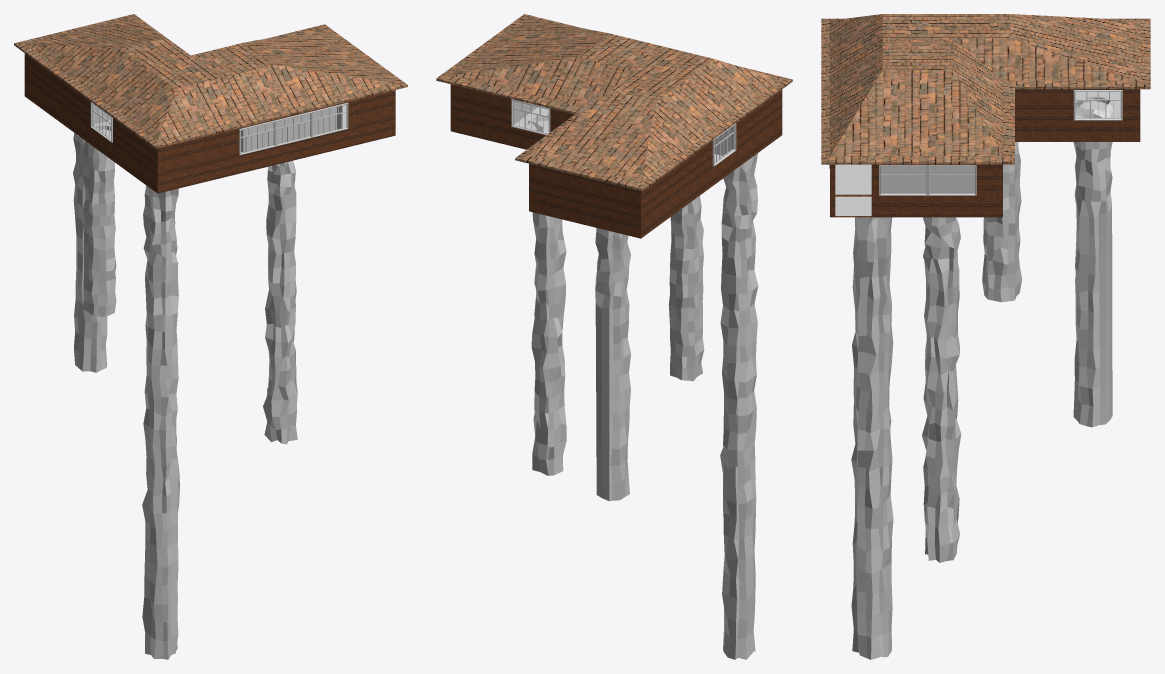
Rendered from House4 (1).fbx.
3 views of the same model, side by side, from view 1: azimuth 30°, elevation 25°; view 2: azimuth 150°, elevation 25°; view 3: azimuth 270°, elevation 25° (orthographic). The views are drawn at different scales.
Parts seen in each view (by area): view 1: Plane, StoreRoomHole, GuestRoomHole, BedroomHole, KitchenHole, Hallway, WindowHallway; view 2: Plane, StoreRoomHole, KitchenHole, GuestRoomHole, BedroomHole, WindowGuest; view 3: Plane, StoreRoomHole, GuestRoomHole, KitchenHole, BedroomHole, PreEnter, WindowEnter, Hallway, WindowKitchen, KitchenFloor.
Boxes of the visible parts, x1,y1,x2,y2 form: Plane: (14,14,407,193); StoreRoomHole: (142,185,179,659); GuestRoomHole: (263,160,297,444); BedroomHole: (77,126,116,316); KitchenHole: (73,133,107,372); Hallway: (241,107,338,152); WindowHallway: (239,102,348,155); Plane: (436,14,792,238); StoreRoomHole: (720,153,758,659); KitchenHole: (595,228,630,501); GuestRoomHole: (527,115,566,475); BedroomHole: (668,196,704,381); WindowGuest: (511,99,550,135); Plane: (821,14,1150,217); StoreRoomHole: (851,217,893,659); GuestRoomHole: (922,217,961,562); KitchenHole: (1073,96,1114,427); BedroomHole: (982,142,1021,302); PreEnter: (835,167,974,215); WindowEnter: (879,165,976,195); Hallway: (835,164,871,194); WindowKitchen: (1073,90,1122,120); KitchenFloor: (1075,91,1120,117).
Bounding box in the file's own units: 1117 × 2358 × 1081.
2 materials, 2 textured.
